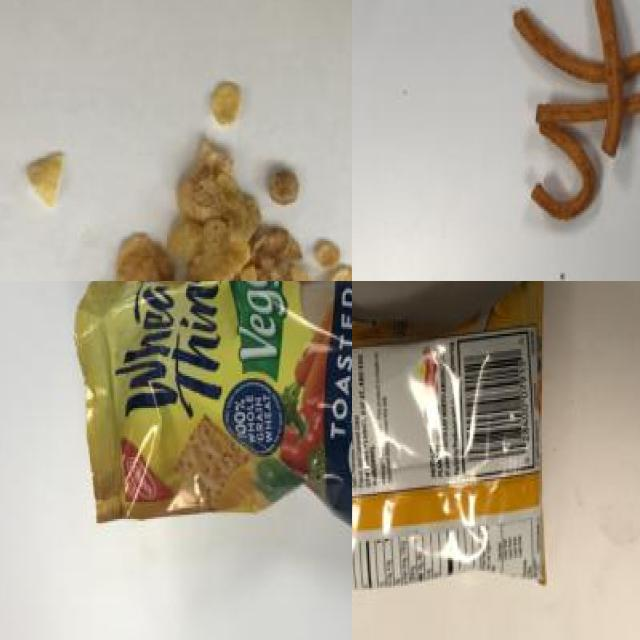compost: (48, 75, 352, 281), (489, 0, 640, 256)
trash: (64, 281, 352, 573), (352, 281, 578, 607)
